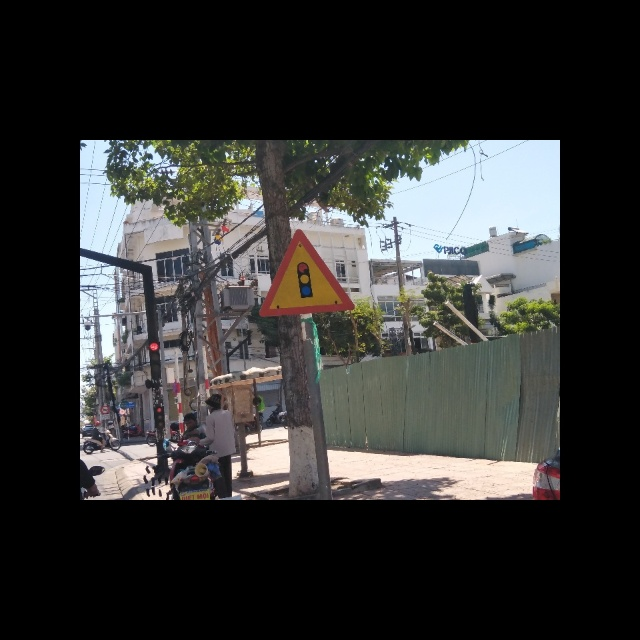Giao nhau có tín hiệu đèn: (256, 227, 358, 317)
